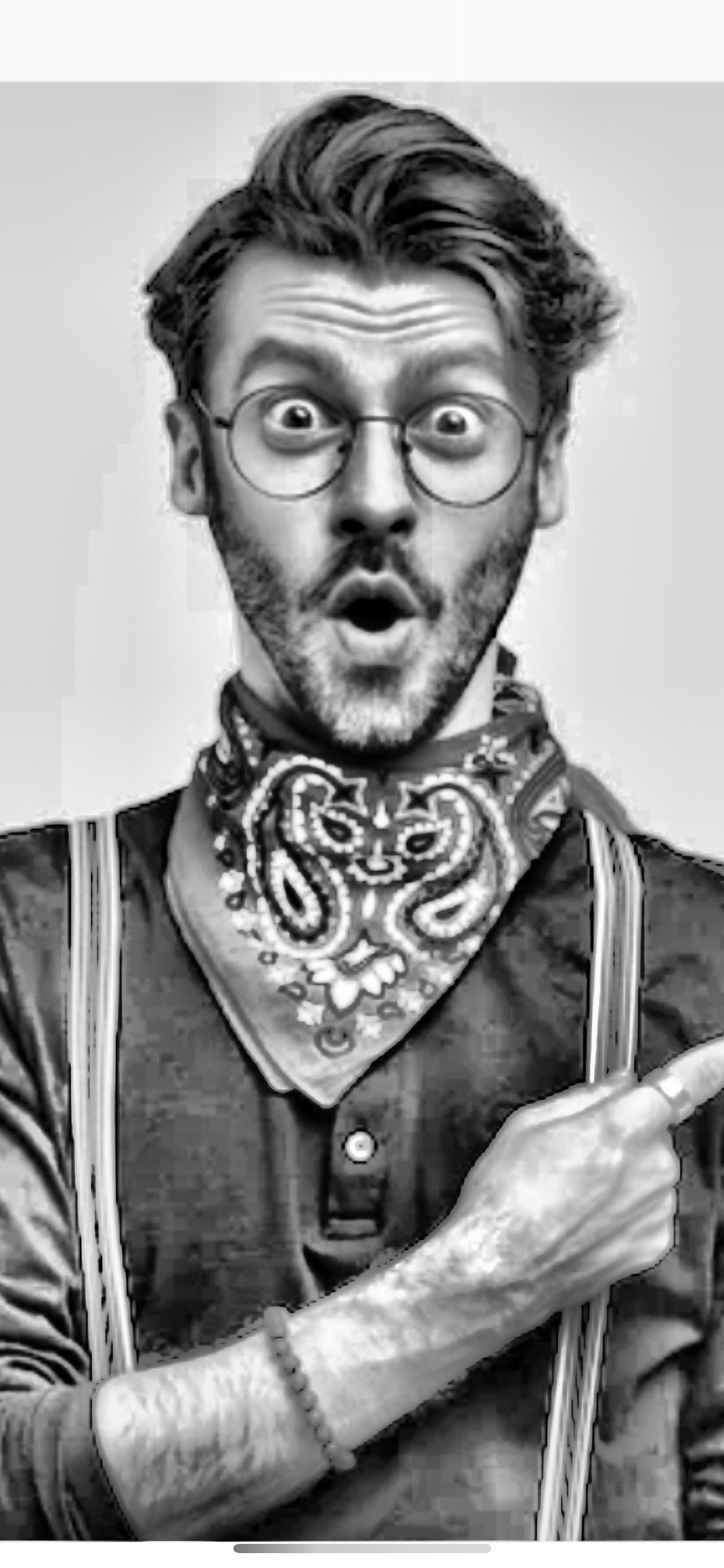surprised: (231, 221, 534, 756)
